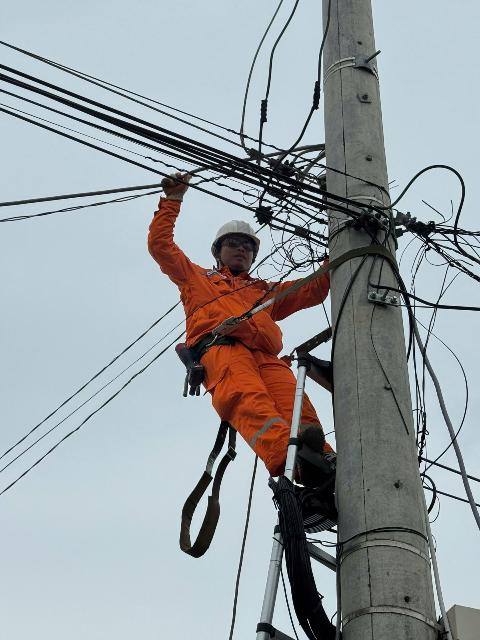gloves: (149, 166, 207, 202)
harness: (169, 318, 330, 368)
helmet: (190, 211, 278, 257)
